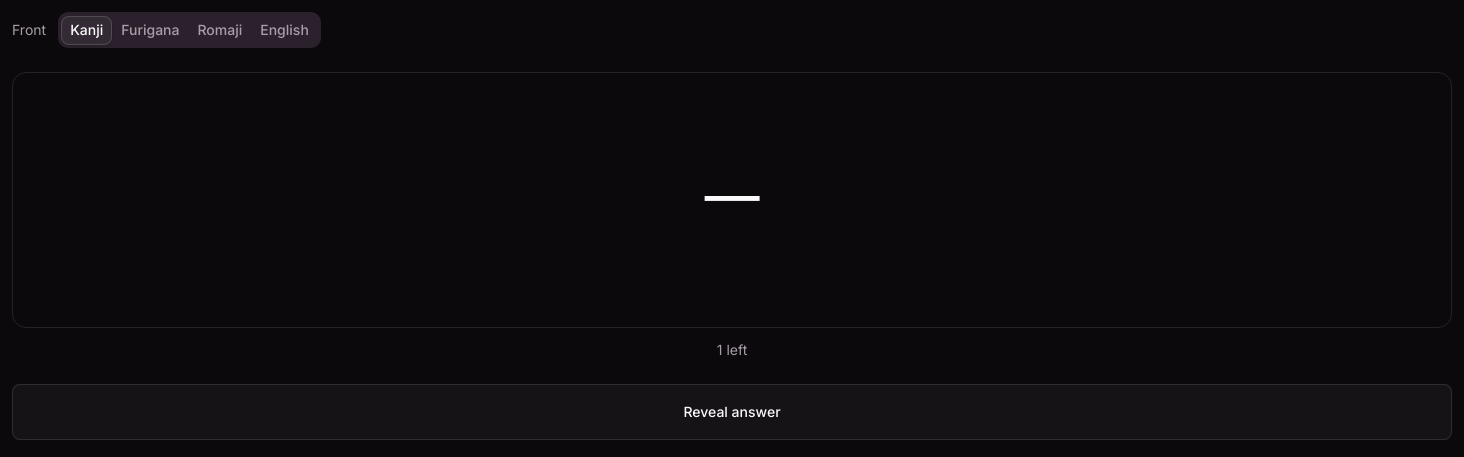
Flashcards › later › is disabled when there is nothing to defer past
Step 1. Click the button "Reveal answer" → (732, 412), box [12,384,1452,440]
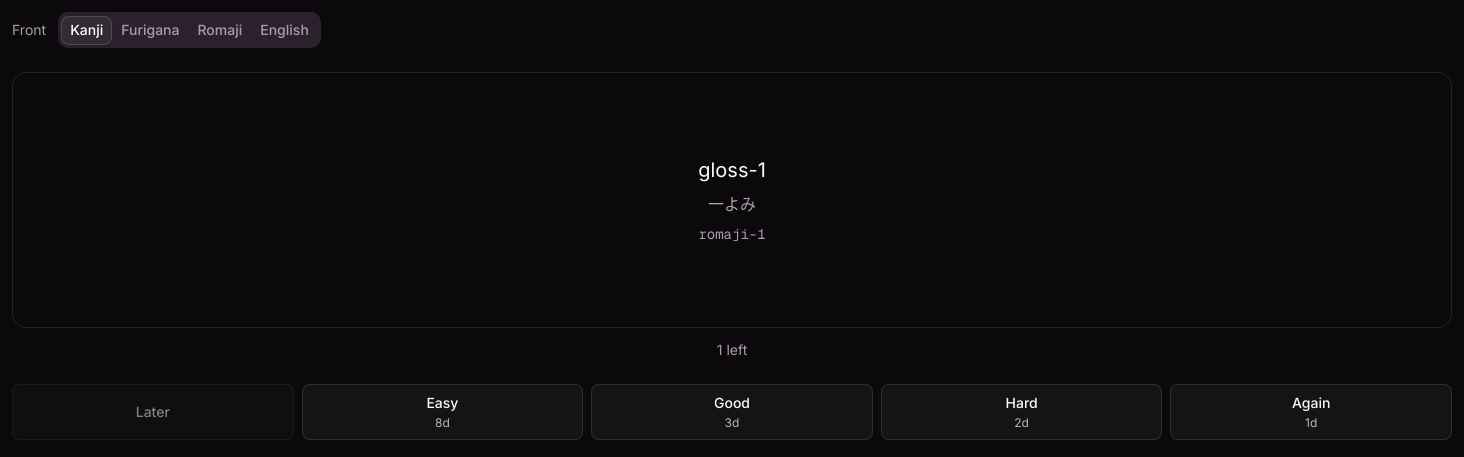
Expected: the button "Later" is disabled, [12,384,294,440]
